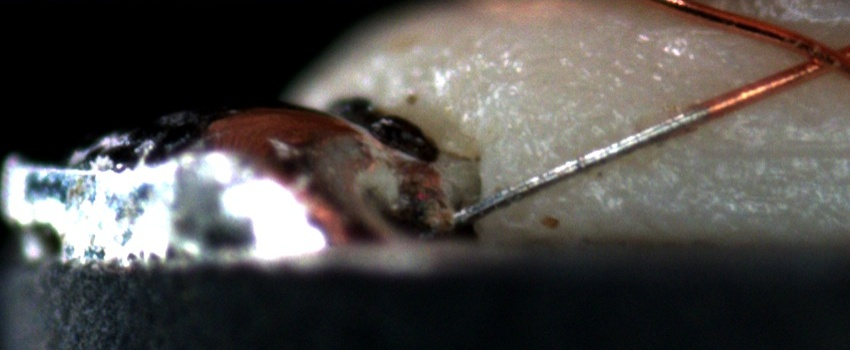CL: (779, 30, 846, 83)
DL: (712, 120, 850, 182)
TS: (452, 106, 710, 224)
